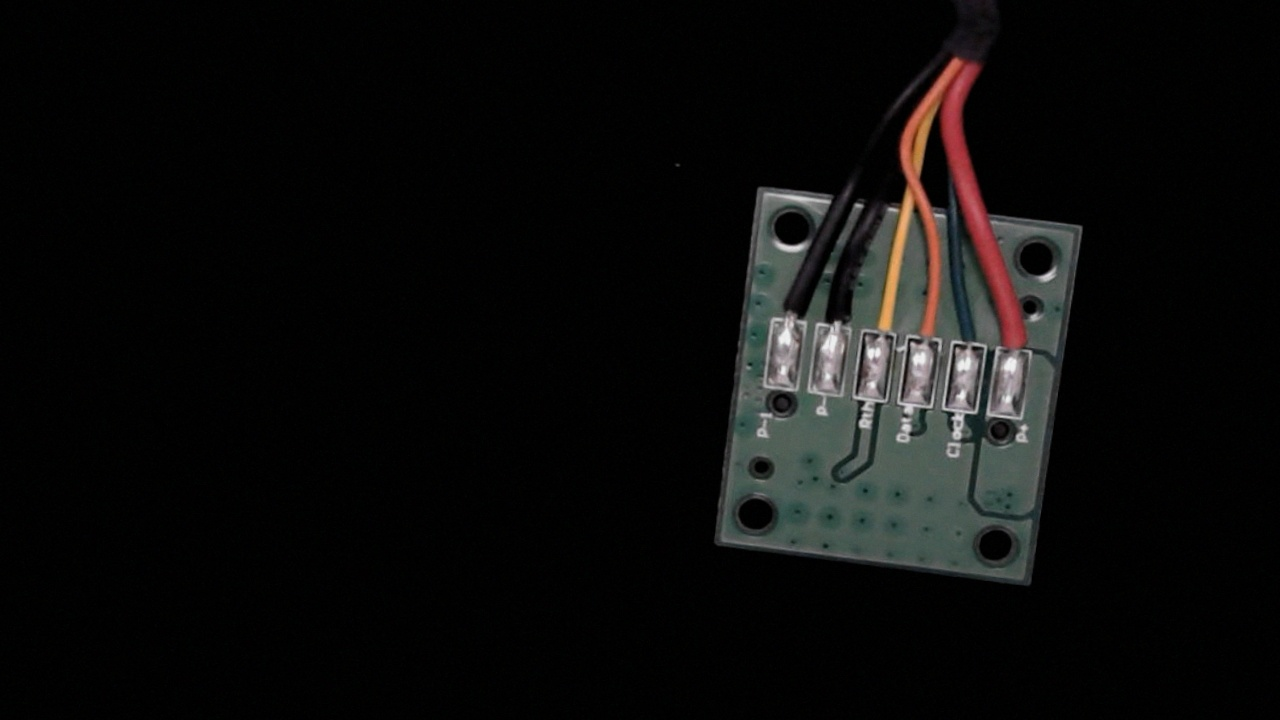Black: (814, 266, 860, 348)
Black1: (771, 270, 814, 339)
Green: (943, 284, 996, 367)
Orange: (900, 276, 951, 361)
Red: (989, 288, 1042, 371)
Yellow: (859, 273, 905, 355)
